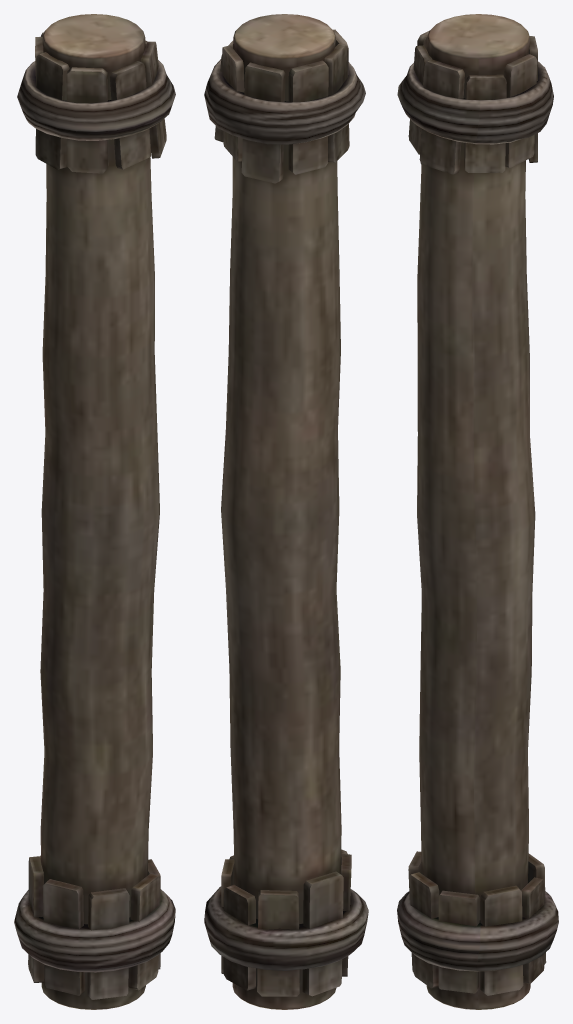
The model's file is SM_Pillar_Wood_48bae9.glb.
3 views of the same model, side by side, from view 1: azimuth 30°, elevation 25°; view 2: azimuth 150°, elevation 25°; view 3: azimuth 270°, elevation 25° (orthographic).
Bounding box in the file's own units: 0.5202 × 3.33 × 0.5125.
Materials: 1 (1 with a texture image).
